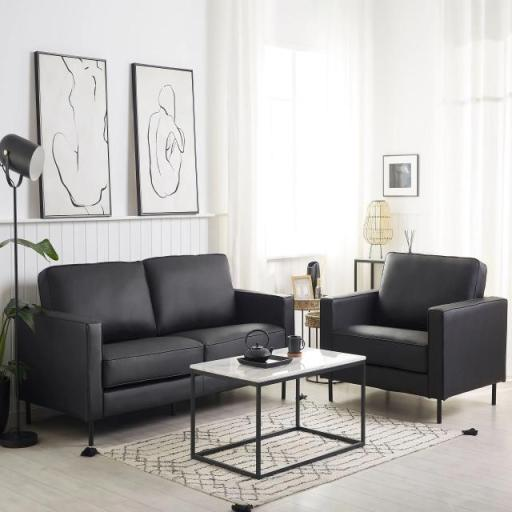sofa: (22, 247, 338, 469), (300, 204, 512, 436)
